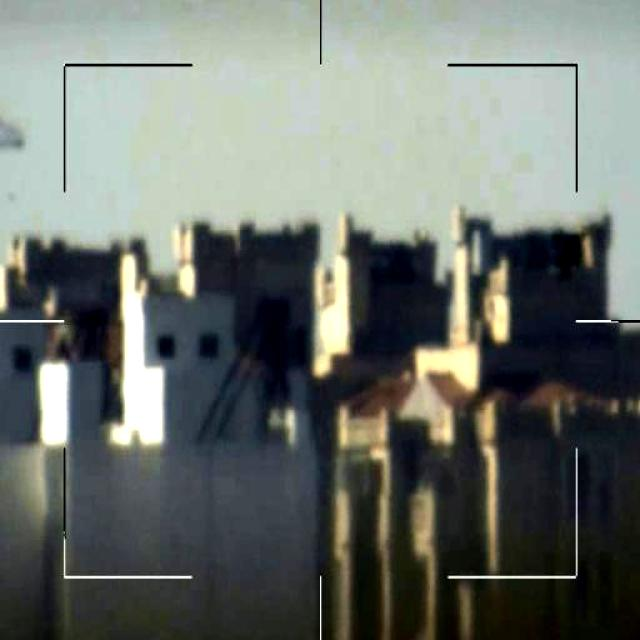bird: (545, 214, 591, 286)
